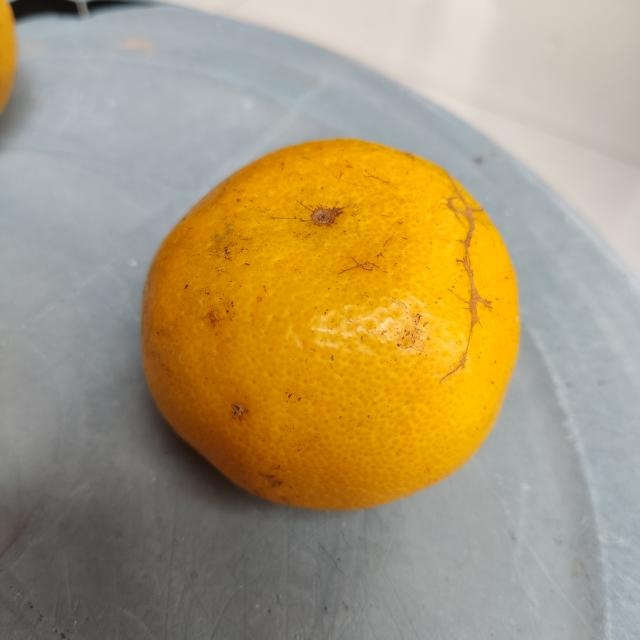agrume: (138, 134, 521, 514)
